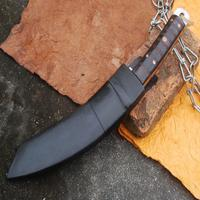knife: (5, 10, 183, 185)
